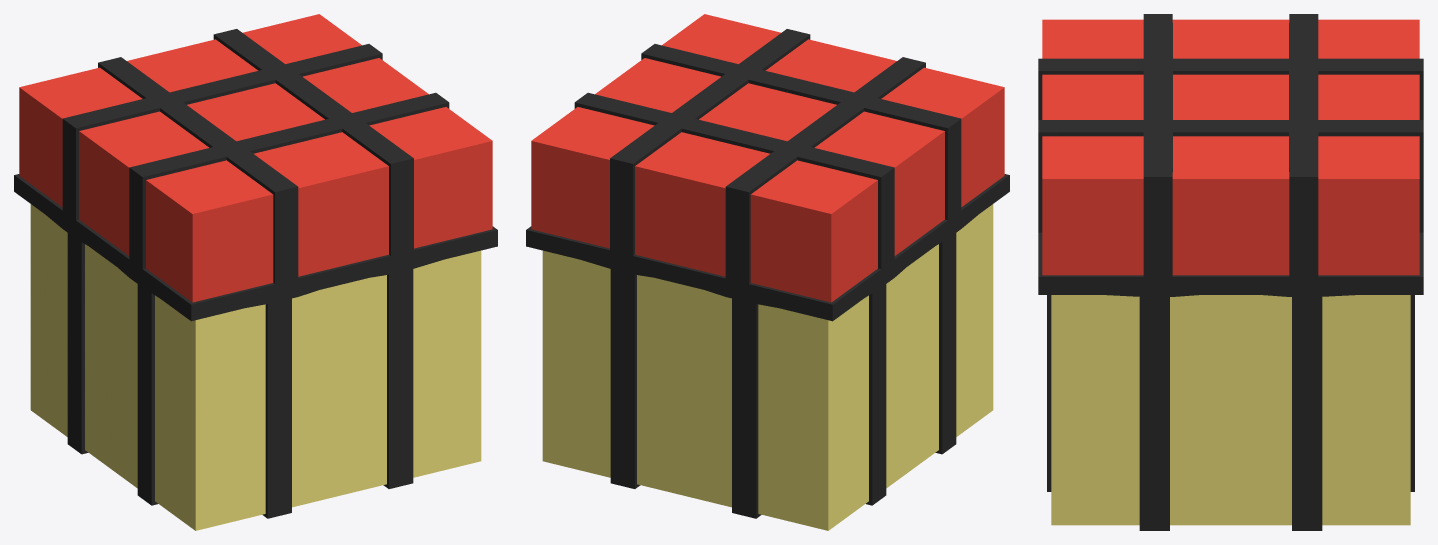
Rendered from bag.fbx.
3 views of the same model, side by side, from view 1: azimuth 30°, elevation 25°; view 2: azimuth 150°, elevation 25°; view 3: azimuth 270°, elevation 25° (orthographic). The views are drawn at different scales.
Parts seen in each view (by area): view 1: Box001; view 2: Box001; view 3: Box001.
Part boxes in pixels (x1,y1,x2,y2): Box001: (14,14,497,530); Box001: (526,14,1009,530); Box001: (1038,14,1423,530).
Size of the model in its own units: 107 by 110 by 107.
Materials: 1 (1 with a texture image).
